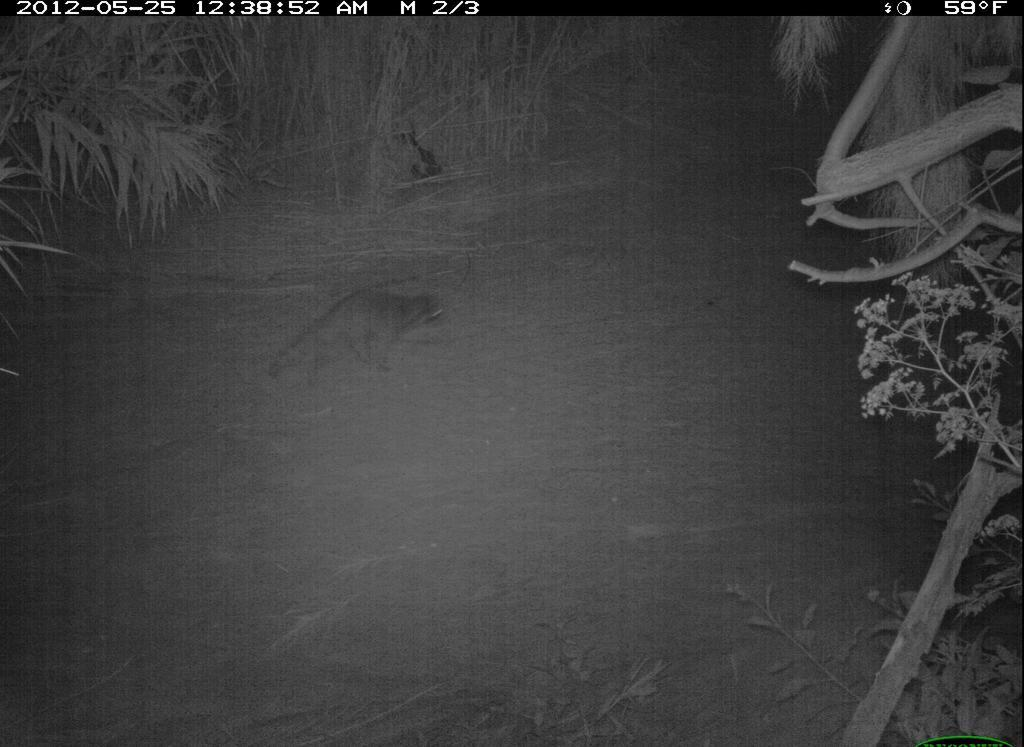raccoon: (268, 281, 457, 381)
